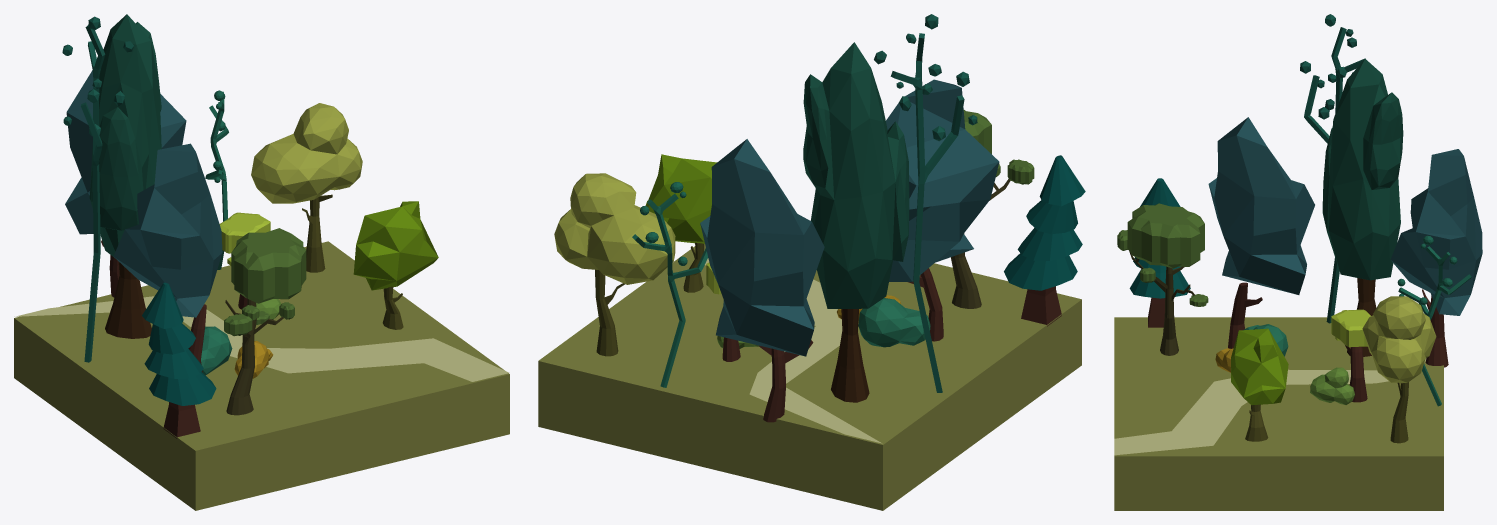
Rendered from 森林导出.fbx.
3 views of the same model, side by side, from view 1: azimuth 30°, elevation 25°; view 2: azimuth 150°, elevation 25°; view 3: azimuth 270°, elevation 25° (orthographic). The views are drawn at different scales.
Parts seen in each view (by area): view 1: 底座, 立方体.016, 棱角球.005, 棱角球.010, 平面, 柱体.001, 棱角球.007, 立方体.011, 立方体.017, 棱角球.006, 柱体.018, 柱体.016 (+7 smaller); view 2: 底座, 棱角球.005, 立方体.017, 立方体.016, 棱角球.010, 柱体.001, 棱角球.006, 平面, 棱角球.007, 棱角球.011, 平面.003, 柱体.018 (+5 smaller); view 3: 底座, 棱角球.005, 立方体.016, 立方体.017, 平面, 棱角球.010, 立方体.011, 棱角球.007, 棱角球.006, 柱体.001, 平面.003, 柱体.016 (+8 smaller).
Part boxes in pixels (x1,y1,x2,y2): 底座: (14, 241, 509, 510); 立方体.016: (113, 143, 222, 317); 棱角球.005: (89, 14, 161, 258); 棱角球.010: (251, 103, 362, 203); 平面: (14, 296, 509, 381); 柱体.001: (142, 282, 216, 438); 棱角球.007: (353, 201, 438, 290); 立方体.011: (231, 228, 306, 303); 立方体.017: (65, 70, 186, 234); 棱角球.006: (62, 16, 133, 362); 柱体.018: (105, 262, 151, 338); 柱体.016: (225, 299, 283, 415); 底座: (538, 244, 1081, 510); 棱角球.005: (803, 42, 909, 308); 立方体.017: (700, 139, 824, 356); 立方体.016: (886, 79, 999, 281); 棱角球.010: (554, 173, 675, 284); 柱体.001: (1004, 155, 1085, 326); 棱角球.006: (874, 14, 977, 392); 平面: (705, 258, 882, 443); 棱角球.007: (645, 154, 716, 243); 棱角球.011: (858, 298, 930, 347); 平面.003: (632, 182, 708, 387); 柱体.018: (831, 309, 869, 402); 底座: (1114, 317, 1443, 510); 棱角球.005: (1322, 59, 1403, 280); 立方体.016: (1208, 117, 1314, 294); 立方体.017: (1390, 149, 1482, 315); 平面: (1114, 358, 1426, 455); 棱角球.010: (1362, 296, 1436, 382); 立方体.011: (1127, 203, 1204, 268); 棱角球.007: (1231, 328, 1288, 405); 棱角球.006: (1300, 14, 1365, 323); 柱体.001: (1129, 178, 1190, 327); 平面.003: (1397, 235, 1471, 406); 柱体.016: (1129, 251, 1195, 355).
Size of the model in its own units: 530 by 592 by 540.
